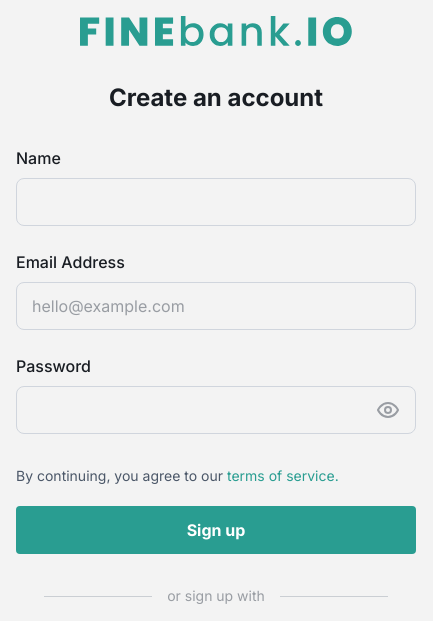
password eye › masks, shows and masks again, with no request and no submit
Expected: the button "Sign up" is shown, [16,506,416,554]
Type "secret" into the password field labelled "Password".
click(196, 410); type("secret")  # box [32,387,360,433]
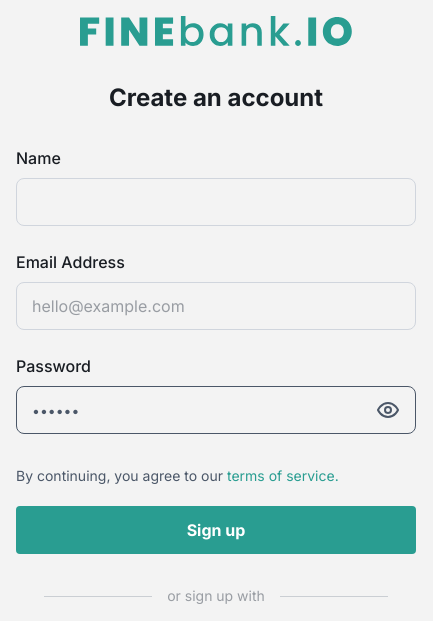
Click the button named "Show password".
click(388, 410)  # box [376,398,400,422]
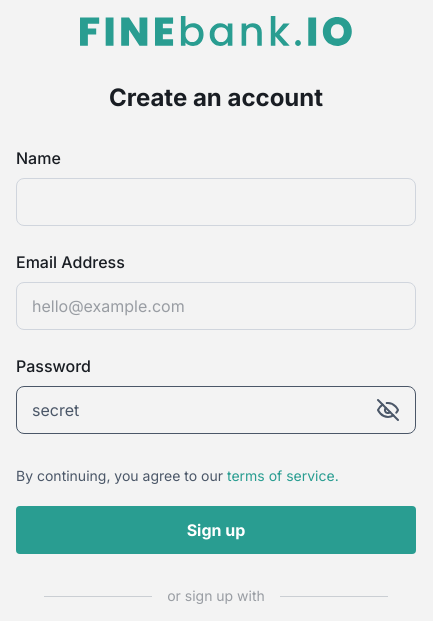
Expected: the field labelled "Password" shows its text, [32,387,360,433]
Click the button named "Hide password".
click(388, 410)  # box [376,398,400,422]
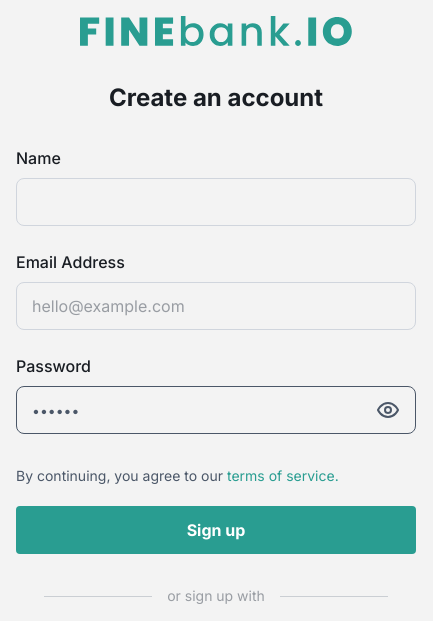
Expected: the password field labelled "Password" hides its text, [32,387,360,433]
